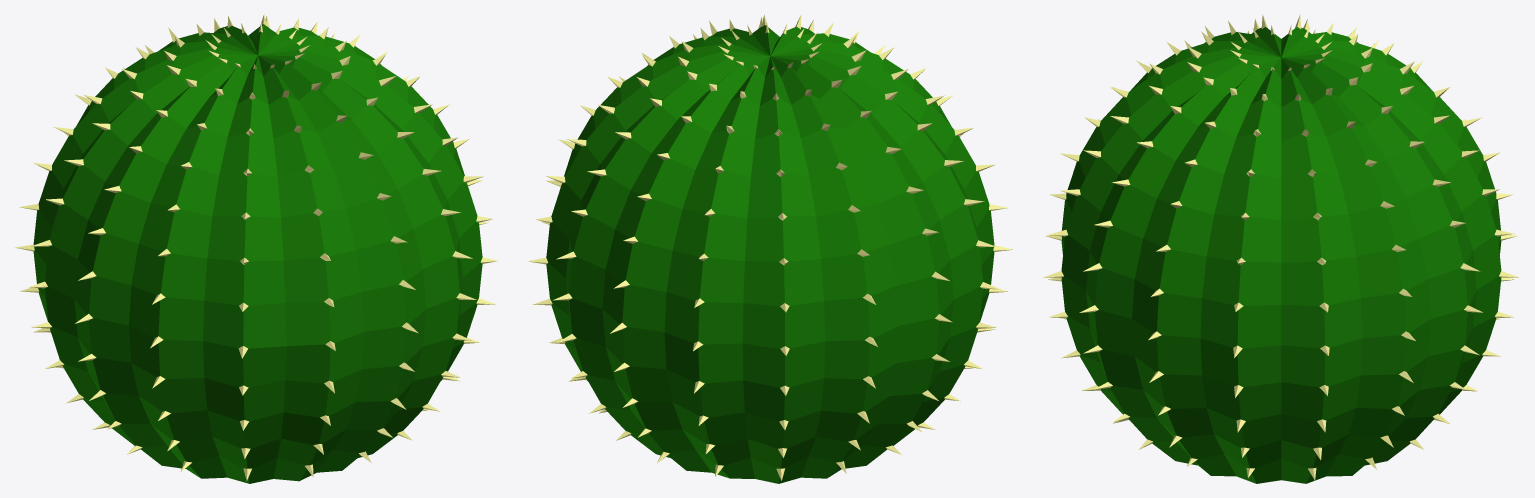
File: cactus var 3.fbx
3 renders of one model, left to right at view 1: azimuth 30°, elevation 25°; view 2: azimuth 150°, elevation 25°; view 3: azimuth 270°, elevation 25°, orthographic.
Parts seen in each view (by area): view 1: cactus 3; view 2: cactus 3; view 3: cactus 3.
Boxes of the visible parts, x1,y1,x2,y2 form: cactus 3: (15,14,497,483); cactus 3: (527,15,1012,483); cactus 3: (1043,14,1519,483).
Size of the model in its own units: 369 by 330 by 369.
